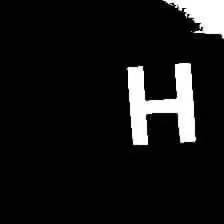LTR_H: (114, 56, 203, 152)
